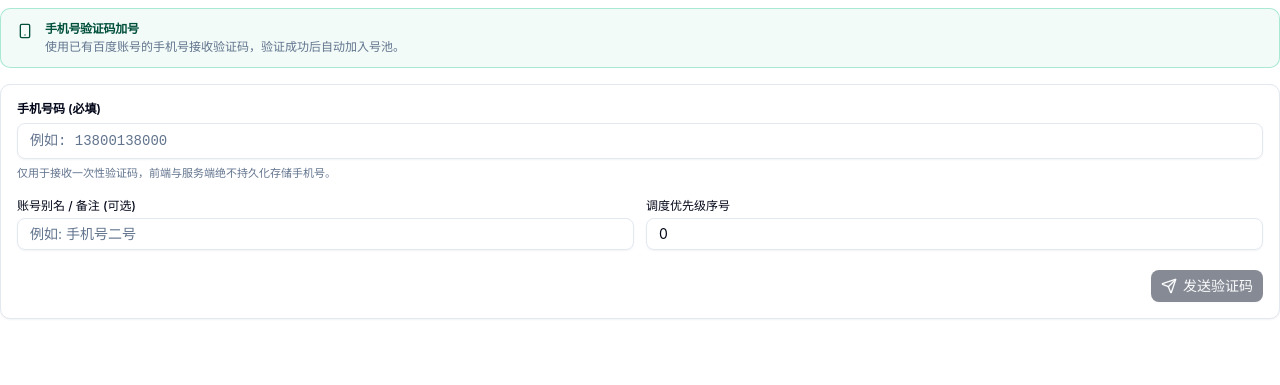
SMS account login › requires exactly six digits and adds the account once without an extra metadata request
Type "13800000000" into the field labelled "手机号码 (必填)" at point(640, 141), box [17,123,1263,159]
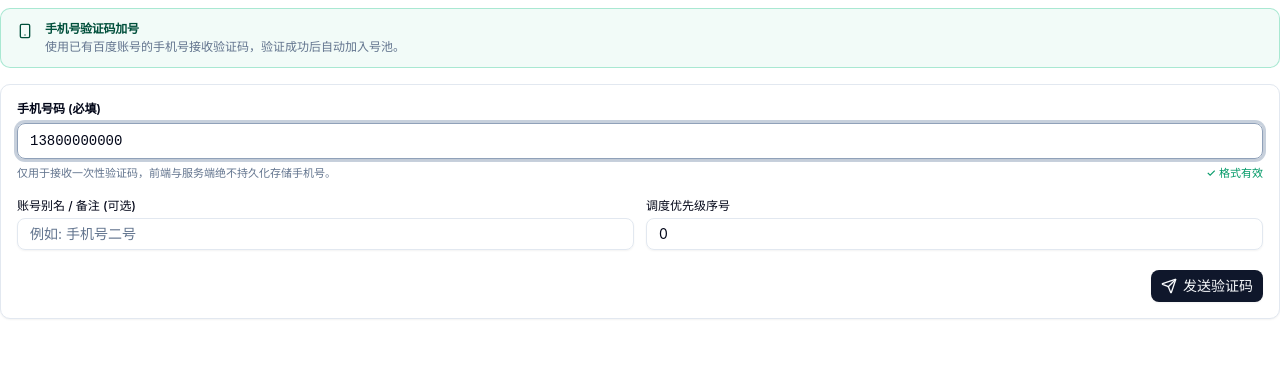
Click the button "发送验证码" at point(1207, 286), box [1151,270,1263,302]
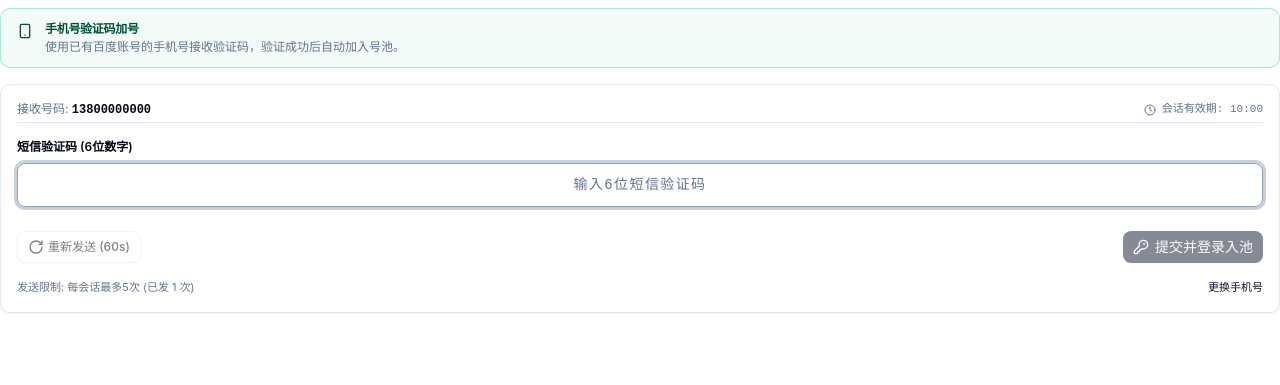
Type "1234" into the field labelled "短信验证码 (6位数字)" at point(640, 185), box [17,163,1263,207]
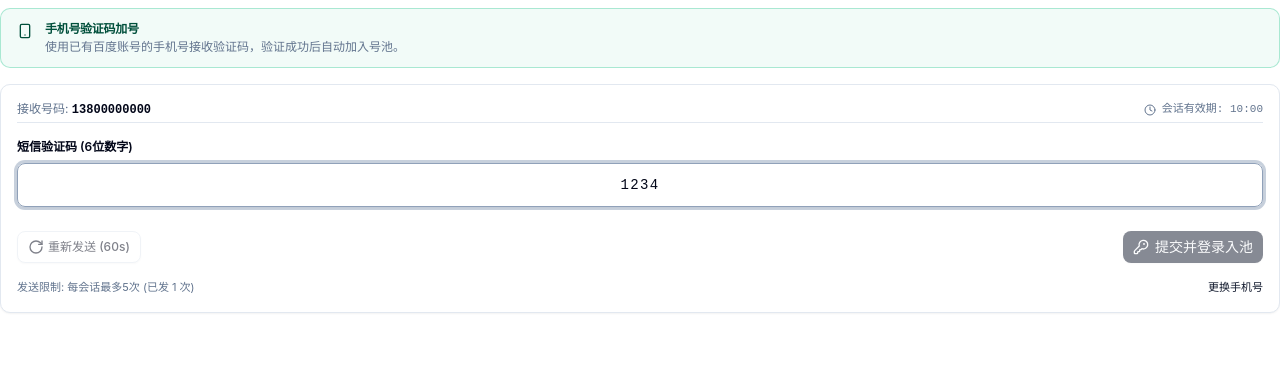
Result: the button "提交并登录入池" is disabled at [1123,231,1263,263]
Replace the text in the field labelled "短信验证码 (6位数字)" with "123456" at point(640, 185), box [17,163,1263,207]
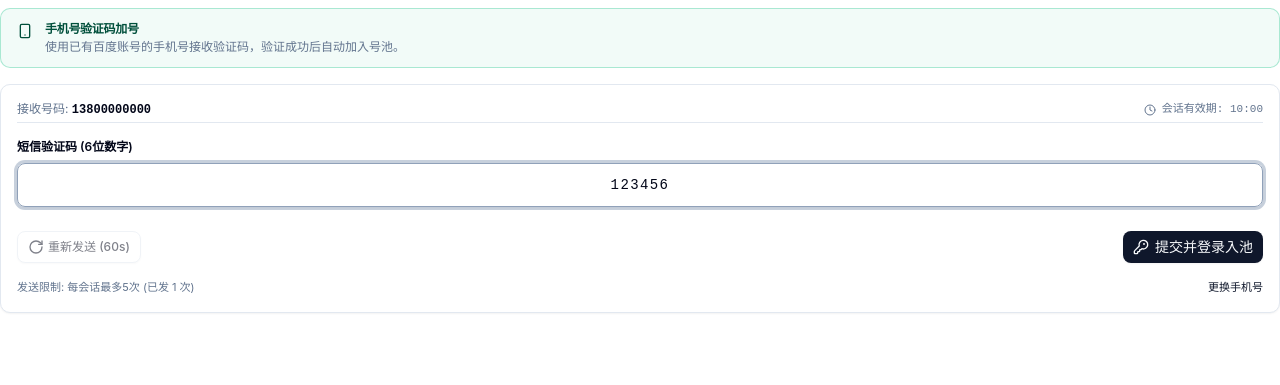
Click the button "提交并登录入池" at point(1193, 247), box [1123,231,1263,263]
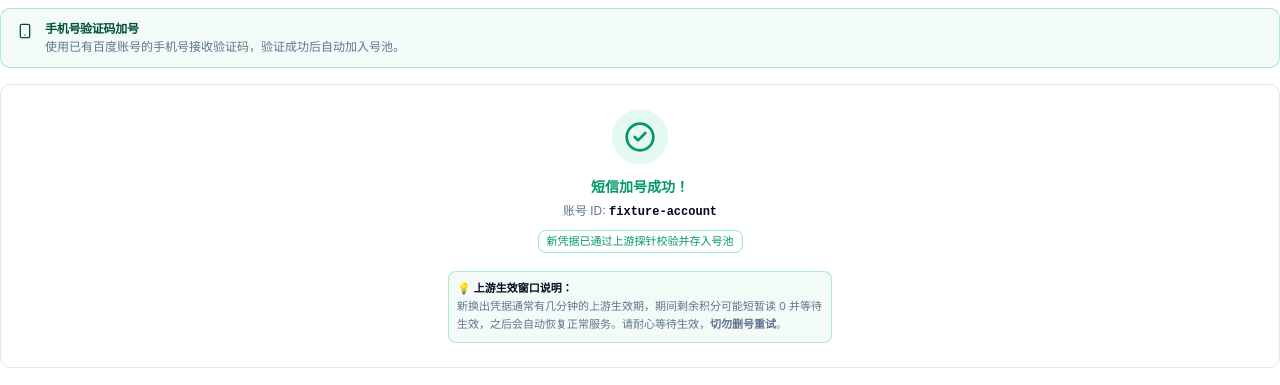
Result: the text "短信加号成功！" is shown at [591,178,689,195]
